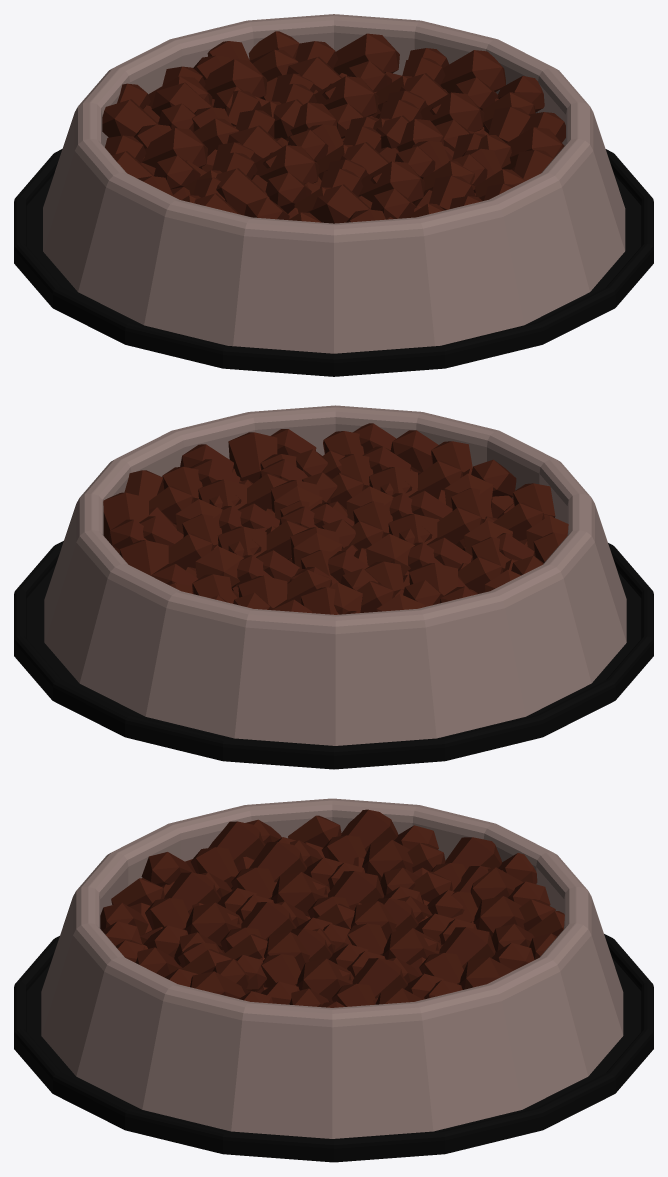
Rendered from bowl.obj.
3 views of the same model, one above another, from view 1: azimuth 30°, elevation 25°; view 2: azimuth 150°, elevation 25°; view 3: azimuth 270°, elevation 25° (orthographic).
Parts seen in each view (by area): view 1: Cylinder002, Cylinder001, Sphere239, Sphere243, Sphere269, Sphere228, Sphere258, Sphere203, Sphere215, Sphere252, Sphere235, Sphere231 (+52 smaller); view 2: Cylinder002, Cylinder001, Sphere282, Sphere243, Sphere283, Sphere239, Sphere237, Sphere199, Sphere257, Sphere236, Sphere274, Sphere258 (+61 smaller); view 3: Cylinder002, Cylinder001, Sphere269, Sphere215, Sphere203, Sphere273, Sphere237, Sphere204, Sphere199, Sphere258, Sphere219, Sphere228 (+48 smaller).
Part boxes in pixels (left/top/right/bottom): Cylinder002: left=43, top=14, right=625, bottom=353; Cylinder001: left=14, top=149, right=653, bottom=376; Sphere239: left=333, top=33, right=399, bottom=74; Sphere243: left=440, top=50, right=505, bottom=93; Sphere269: left=358, top=161, right=424, bottom=202; Sphere228: left=142, top=128, right=207, bottom=167; Sphere258: left=204, top=59, right=267, bottom=99; Sphere203: left=255, top=145, right=319, bottom=183; Sphere215: left=420, top=92, right=484, bottom=131; Sphere252: left=314, top=76, right=378, bottom=116; Sphere235: left=310, top=184, right=370, bottom=223; Sphere231: left=102, top=99, right=158, bottom=137; Cylinder002: left=44, top=405, right=626, bottom=745; Cylinder001: left=14, top=541, right=653, bottom=769; Sphere282: left=228, top=432, right=277, bottom=483; Sphere243: left=103, top=492, right=148, bottom=540; Sphere283: left=390, top=430, right=438, bottom=472; Sphere239: left=120, top=540, right=168, bottom=575; Sphere237: left=195, top=546, right=243, bottom=588; Sphere199: left=366, top=534, right=414, bottom=573; Sphere257: left=437, top=507, right=482, bottom=544; Sphere236: left=168, top=533, right=213, bottom=568; Sphere274: left=493, top=502, right=544, bottom=541; Sphere258: left=238, top=575, right=287, bottom=608; Cylinder002: left=41, top=798, right=623, bottom=1138; Cylinder001: left=14, top=934, right=653, bottom=1162; Sphere269: left=184, top=902, right=242, bottom=950; Sphere215: left=296, top=958, right=353, bottom=1001; Sphere203: left=271, top=872, right=330, bottom=916; Sphere273: left=208, top=821, right=265, bottom=866; Sphere237: left=439, top=927, right=495, bottom=968; Sphere204: left=249, top=842, right=307, bottom=882; Sphere199: left=328, top=871, right=384, bottom=905; Sphere258: left=473, top=896, right=524, bottom=938; Sphere219: left=341, top=809, right=398, bottom=852; Sphere228: left=362, top=840, right=413, bottom=881.
Size of the model in its own units: 583721 by 121004 by 574853.
